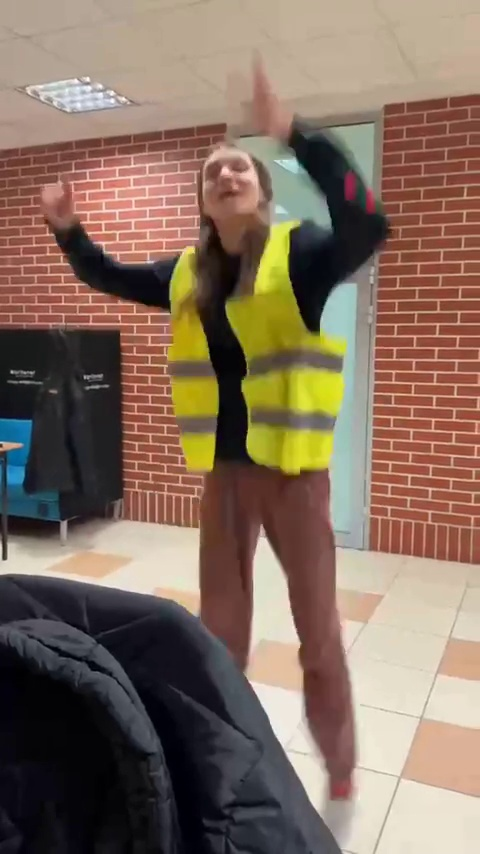vest: (121, 177, 396, 743)
